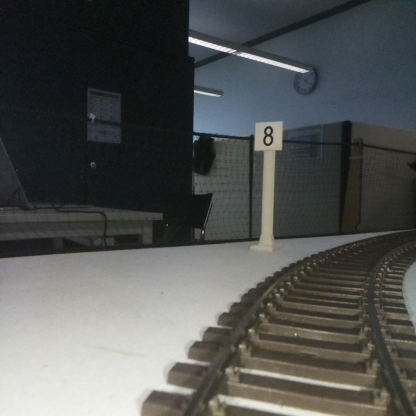white-info-8: (255, 123, 282, 251)
